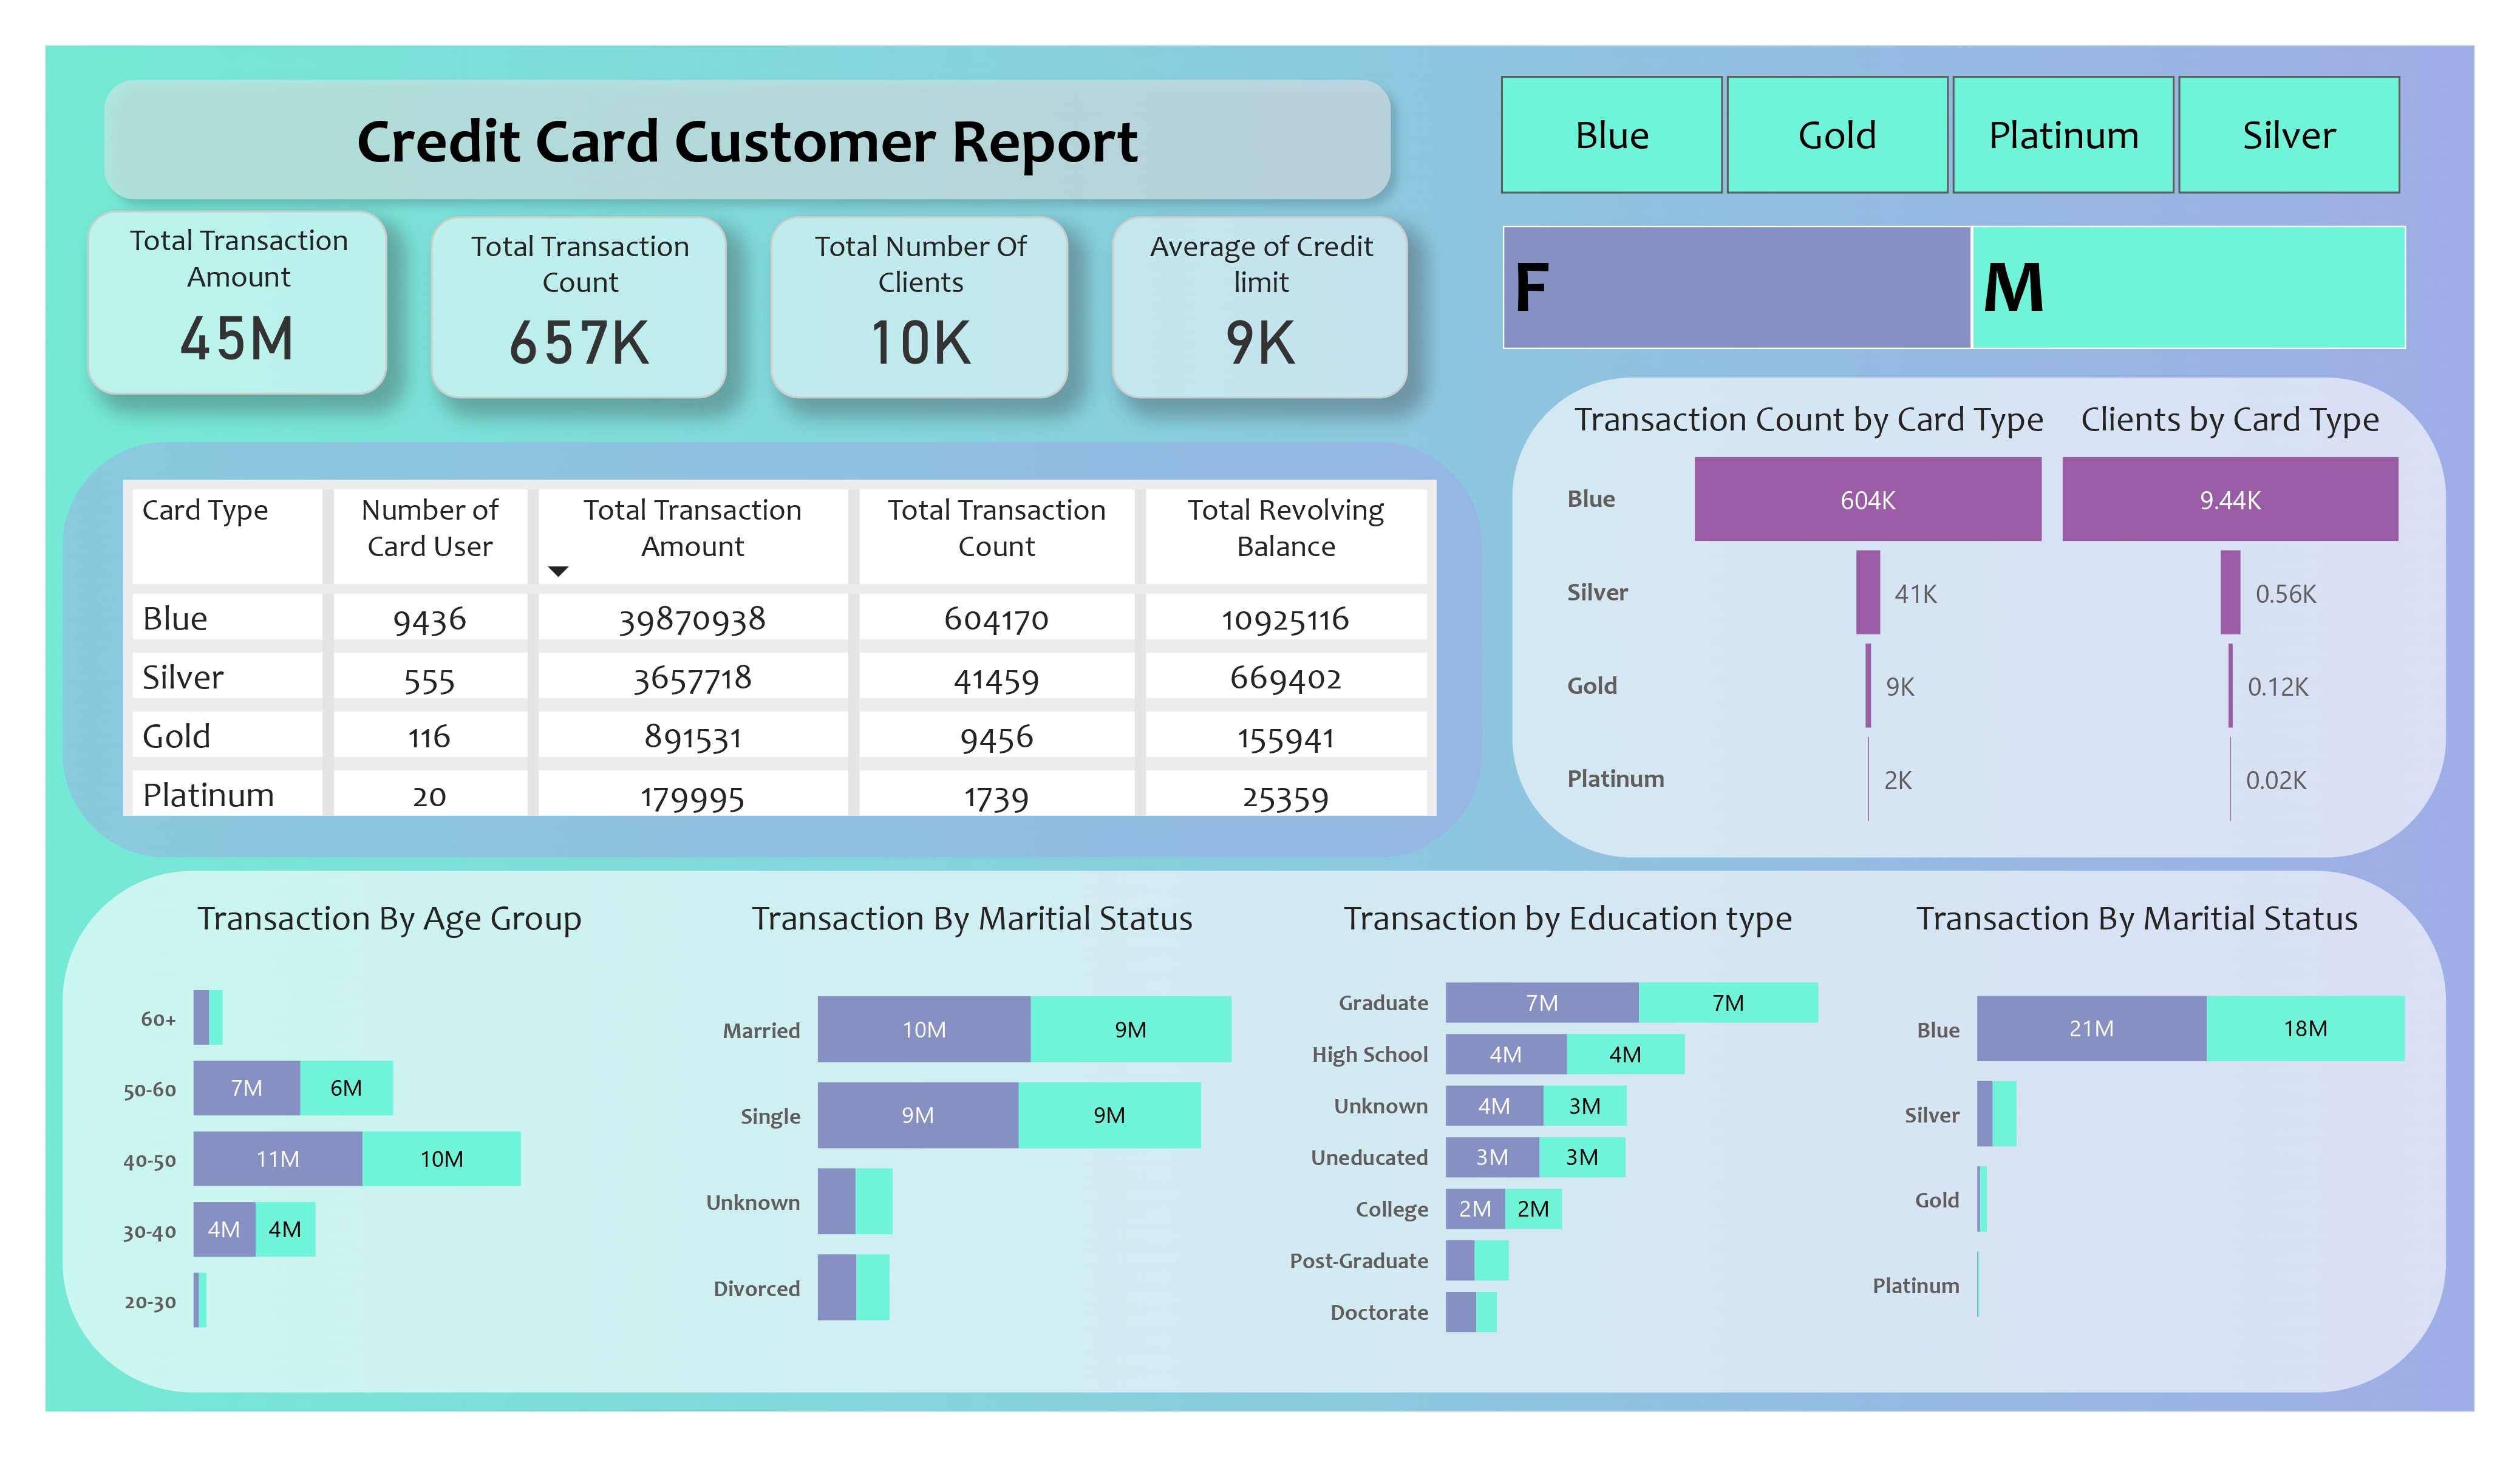

The page's visual inventory and layout, read from the dashboard file:
{"tool":"powerbi","page":{"name":"Credit card Customer report","canvas":[1280,720],"ordinal":2},"visuals":[{"type":"shape","box":[772.6,175,492.9,252.6],"z":0},{"type":"shape","box":[8.6,435,1256.8,274.8],"z":1000},{"type":"shape","box":[8.6,209.5,747.9,218.1],"z":2000},{"type":"advanceCardE03760C5AB684758B56AA29F9E6C257B","title":"Total Transaction Count","fields":{"mainMeasure":["Sum(BankChurners.Total_Trans_Ct)"]},"box":[202.9,90,156.5,96.1],"z":3000},{"type":"advanceCardE03760C5AB684758B56AA29F9E6C257B","title":"Total Number Of  Clients","fields":{"mainMeasure":["Count(BankChurners.CLIENTNUM)"]},"box":[382.4,90,156.5,96.1],"z":4000},{"type":"advanceCardE03760C5AB684758B56AA29F9E6C257B","title":"Average of Credit limit","fields":{"mainMeasure":["Avg(BankChurners.Credit_Limit)"]},"box":[561.9,90,156.5,96.1],"z":5000},{"type":"tableEx","fields":{"Values":["BankChurners.Card_Category","CountNonNull(BankChurners.CLIENTNUM)","Sum(BankChurners.Trans_Amt)","Sum(BankChurners.Total_Trans_Ct)","Sum(BankChurners.Total_Revolving_Bal)"]},"box":[34.5,224.3,706,203.3],"z":6000},{"type":"slicer","fields":{"Values":["BankChurners.Card_Category"]},"box":[740.5,8.6,524.9,76.4],"z":7000},{"type":"shape","box":[22.2,8.6,696.2,81.3],"z":8000},{"type":"advanceCardE03760C5AB684758B56AA29F9E6C257B","title":"Total Transaction Amount","fields":{"mainMeasure":["Sum(BankChurners.Trans_Amt)"]},"box":[22.2,87.5,157.7,96.1],"z":9000},{"type":"treemap","fields":{"Group":["BankChurners.Gender"],"Values":["Sum(BankChurners.Trans_Amt)"]},"box":[762.7,90,486,75.2],"z":10000},{"type":"barChart","title":"Transaction By Age Group","fields":{"Category":["BankChurners.AgeGroup"],"Y":["Sum(BankChurners.Trans_Amt)"],"Series":["BankChurners.Gender"]},"box":[34.9,447.7,293,248.8],"z":11000},{"type":"barChart","title":"Transaction By Maritial Status","fields":{"Y":["Sum(BankChurners.Trans_Amt)"],"Series":["BankChurners.Gender"],"Category":["BankChurners.Marital_Status"]},"box":[341.9,447.7,293,248.8],"z":12000},{"type":"funnel","title":"Transaction Count by Card Type","fields":{"Category":["BankChurners.Card_Category","BankChurners.Gender"],"Y":["Sum(BankChurners.Total_Trans_Ct)"]},"box":[796.5,184.9,265.1,233.7],"z":13000},{"type":"barChart","title":"Transaction By Maritial Status","fields":{"Y":["Sum(BankChurners.Trans_Amt)"],"Series":["BankChurners.Gender"],"Category":["BankChurners.Card_Category"]},"box":[955.8,447.7,293,247.7],"z":14000},{"type":"funnel","title":"Clients by Card Type","fields":{"Category":["BankChurners.Card_Category","BankChurners.Gender"],"Y":["Count(BankChurners.CLIENTNUM)"]},"box":[1053.5,184.9,196.5,233.7],"z":15000},{"type":"barChart","title":"Transaction by Education type","fields":{"Category":["BankChurners.Education_Level"],"Y":["Sum(BankChurners.Trans_Amt)"],"Series":["BankChurners.Gender"]},"box":[648.8,447.7,307,247.7],"z":16000}]}

Visuals, with their boxes on the page's 1280x720 design canvas (x1, y1, x2, y2). These are canvas units, not pixel positions in the 2520x1457 screenshot, which may show the page scaled, cropped or inside an application window:
shape: [x1=773, y1=175, x2=1266, y2=428]
shape: [x1=9, y1=435, x2=1265, y2=710]
shape: [x1=9, y1=210, x2=756, y2=428]
"Total Transaction Count" advanceCardE03760C5AB684758B56AA29F9E6C257B: [x1=203, y1=90, x2=359, y2=186]
"Total Number Of  Clients" advanceCardE03760C5AB684758B56AA29F9E6C257B: [x1=382, y1=90, x2=539, y2=186]
"Average of Credit limit" advanceCardE03760C5AB684758B56AA29F9E6C257B: [x1=562, y1=90, x2=718, y2=186]
tableEx - BankChurners.Card_Category x CountNonNull(BankChurners.CLIENTNUM): [x1=34, y1=224, x2=740, y2=428]
slicer - BankChurners.Card_Category: [x1=740, y1=9, x2=1265, y2=85]
shape: [x1=22, y1=9, x2=718, y2=90]
"Total Transaction Amount" advanceCardE03760C5AB684758B56AA29F9E6C257B: [x1=22, y1=88, x2=180, y2=184]
treemap - BankChurners.Gender x Sum(BankChurners.Trans_Amt): [x1=763, y1=90, x2=1249, y2=165]
"Transaction By Age Group" barChart: [x1=35, y1=448, x2=328, y2=696]
"Transaction By Maritial Status" barChart: [x1=342, y1=448, x2=635, y2=696]
"Transaction Count by Card Type" funnel: [x1=796, y1=185, x2=1062, y2=419]
"Transaction By Maritial Status" barChart: [x1=956, y1=448, x2=1249, y2=695]
"Clients by Card Type" funnel: [x1=1054, y1=185, x2=1250, y2=419]
"Transaction by Education type" barChart: [x1=649, y1=448, x2=956, y2=695]
